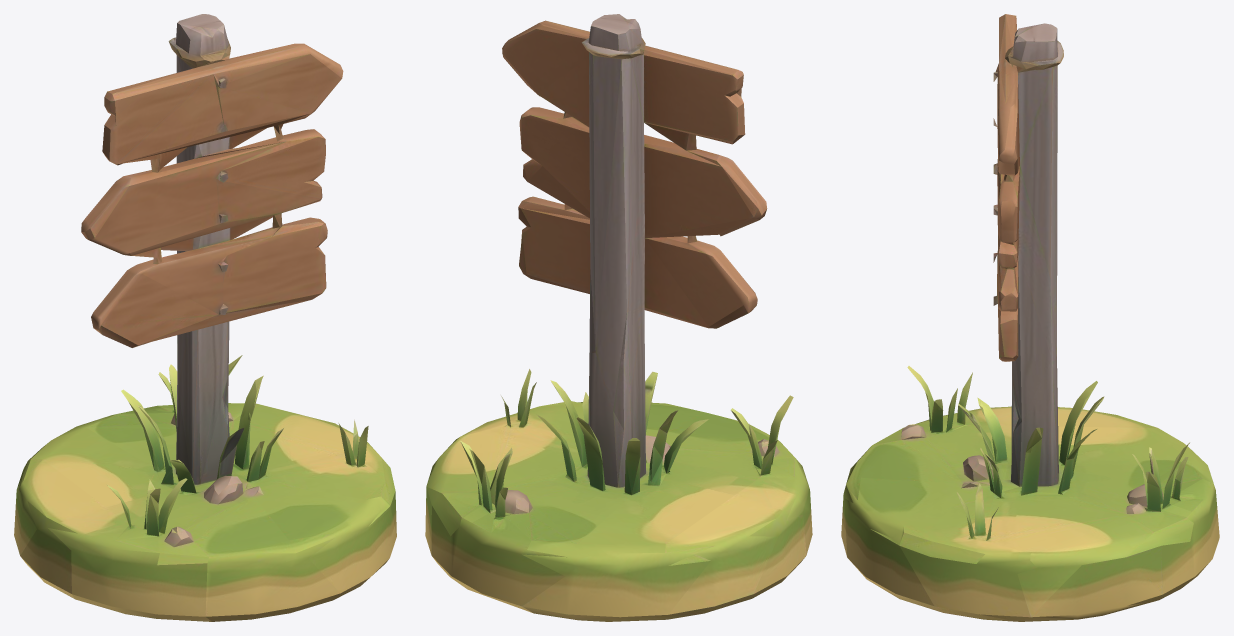
The model's file is p_sign.fbx.
The picture shows the model from 3 angles, left to right: view 1: azimuth 30°, elevation 25°; view 2: azimuth 150°, elevation 25°; view 3: azimuth 270°, elevation 25°; orthographic projection. The views are drawn at different scales.
Parts seen in each view (by area): view 1: Mesh_0; view 2: Mesh_0; view 3: Mesh_0.
Part boxes in pixels (<box>): Mesh_0: <box>14,14,396,621</box>; Mesh_0: <box>425,14,812,621</box>; Mesh_0: <box>841,14,1219,621</box>.
Size of the model in its own units: 1.27 by 1.9 by 1.26.
Materials: 1 (1 with a texture image).
